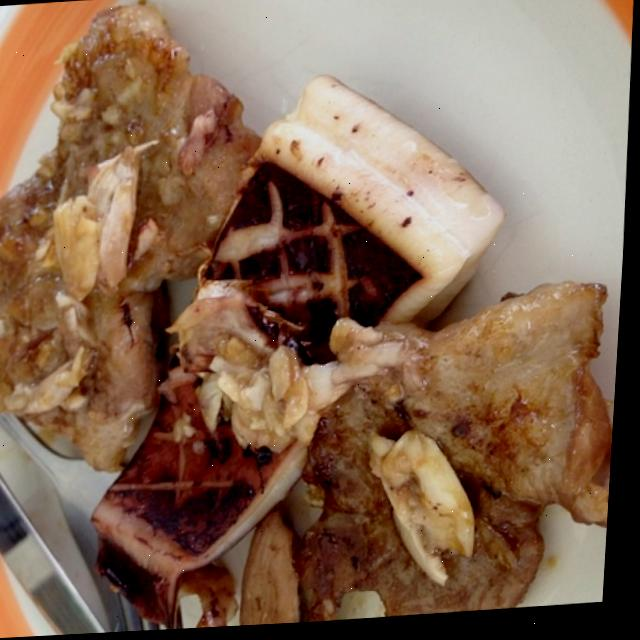猪肉菜式: (0, 0, 603, 640)
